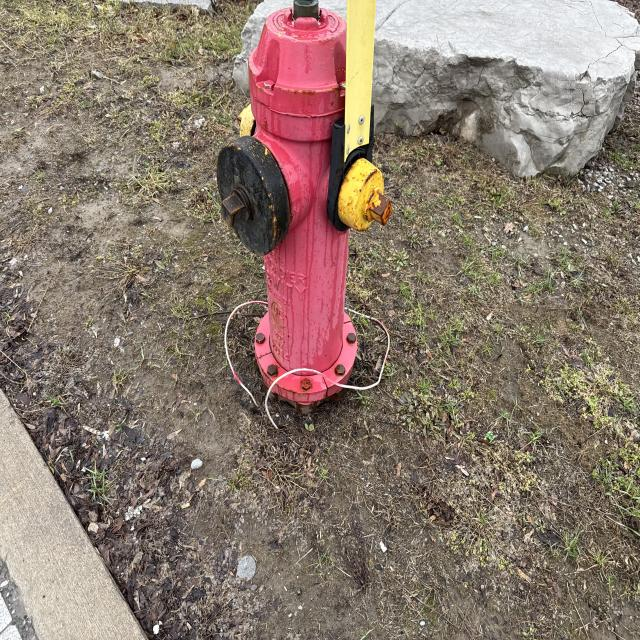Fire hydrant: (216, 1, 393, 408)
